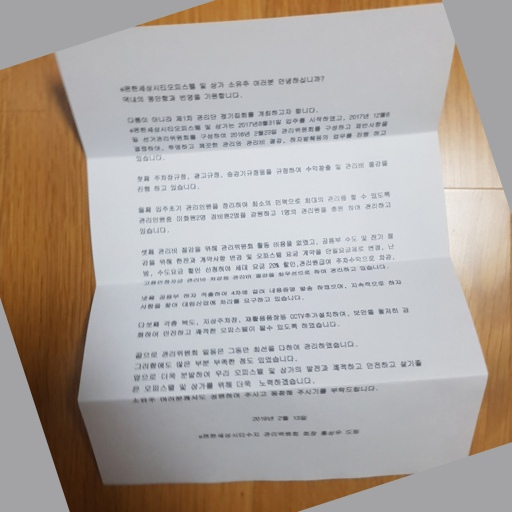Paper_3: (36, 2, 483, 480)
